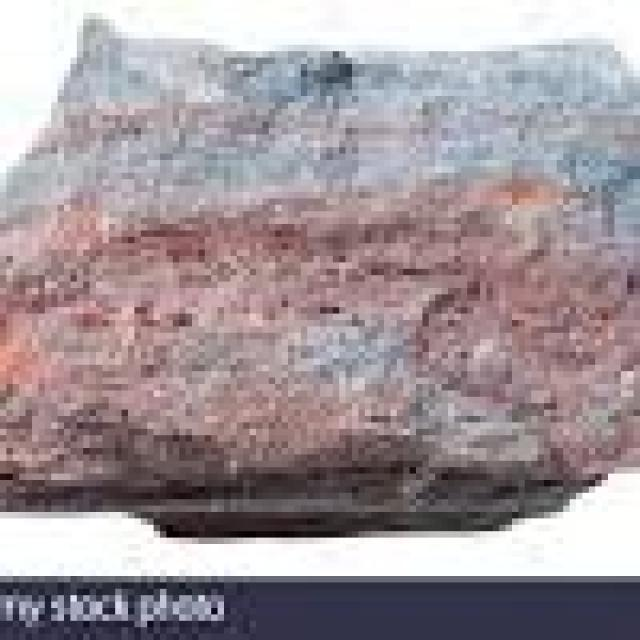Metamorphic: (6, 19, 634, 531)
